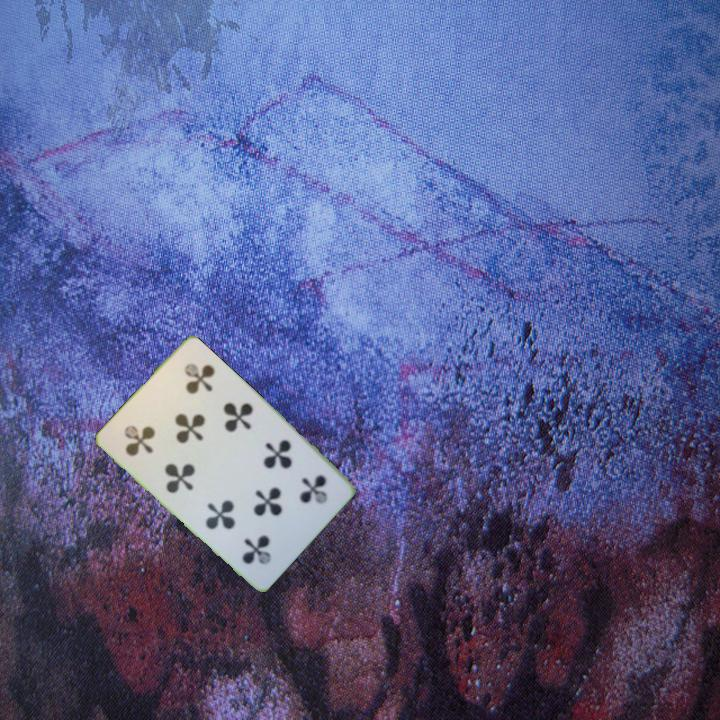c_10.png: (260, 450, 346, 536), (106, 391, 191, 477)
